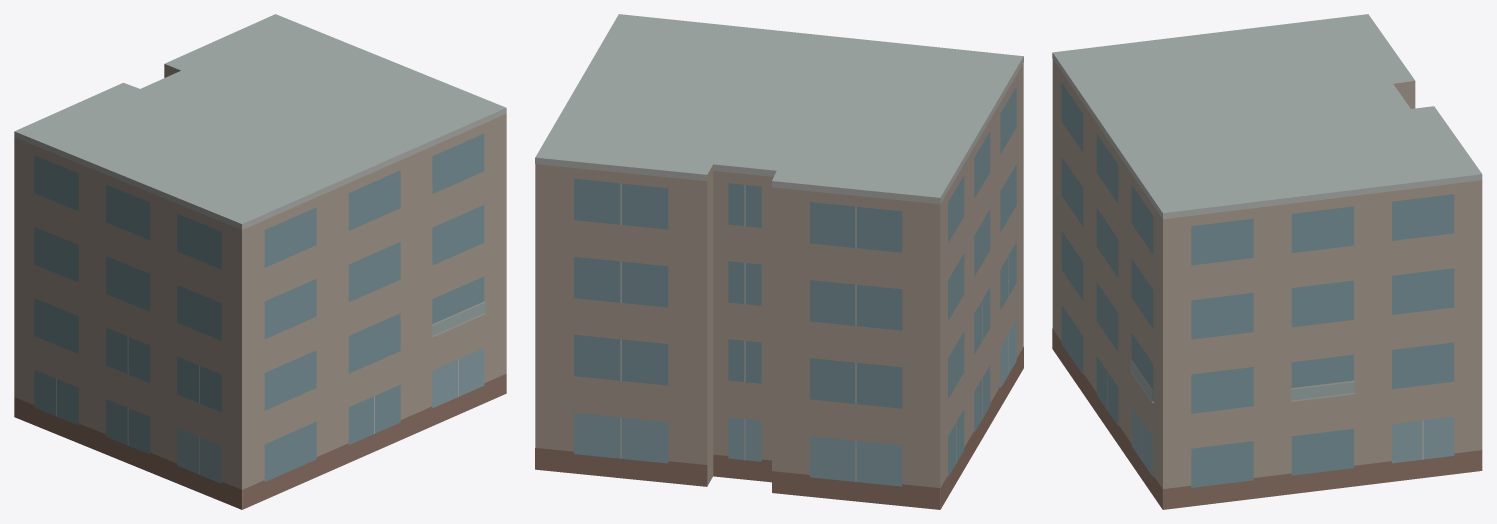
File: survey-upis-32939321.glb
3 views of the same model, side by side, from view 1: azimuth 30°, elevation 25°; view 2: azimuth 150°, elevation 25°; view 3: azimuth 270°, elevation 25° (orthographic). The views are drawn at different scales.
Visible parts, largest first — view 1: survey-upis-32939321.tmp; view 2: survey-upis-32939321.tmp; view 3: survey-upis-32939321.tmp.
Part boxes in pixels (x1=…): survey-upis-32939321.tmp: x1=14, y1=14, x2=506, y2=509; survey-upis-32939321.tmp: x1=535, y1=14, x2=1023, y2=509; survey-upis-32939321.tmp: x1=1052, y1=14, x2=1482, y2=509.
Bounding box in the file's own units: 17.16 × 11.9 × 15.64.
